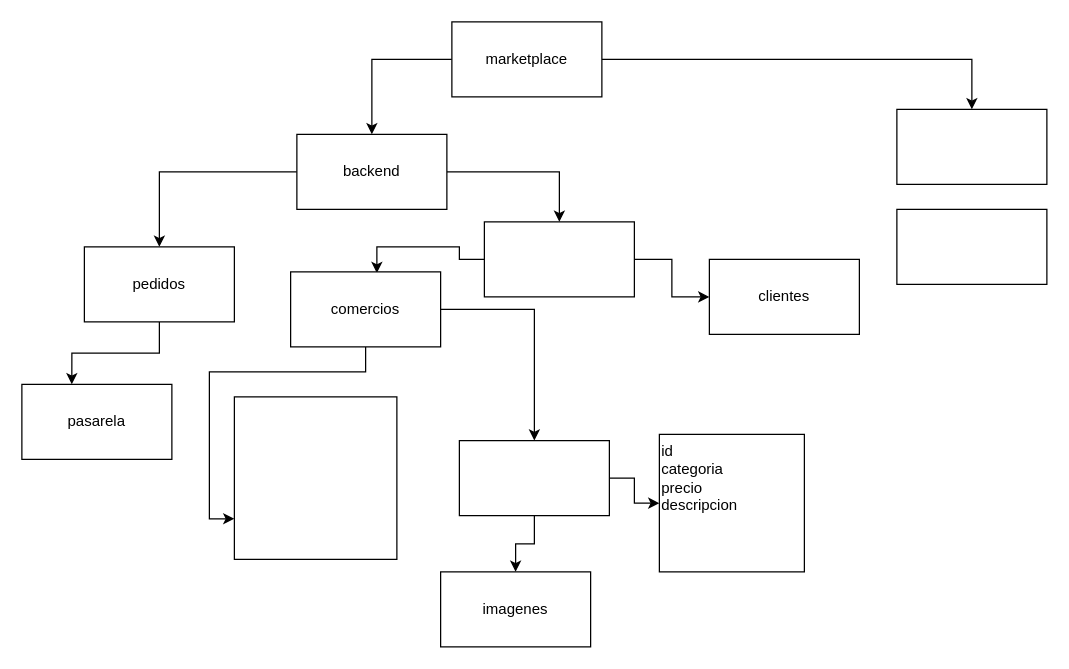
Image size: 1069x669. Some labels were removed from this diagram. Here are the shapes that lost their labels. From the top down, the box of each, then its label:
(896, 108, 1047, 184): frontend
(483, 221, 634, 297): usuarios
(233, 396, 397, 559): id name sector geoloc horario
(458, 439, 609, 516): productos
